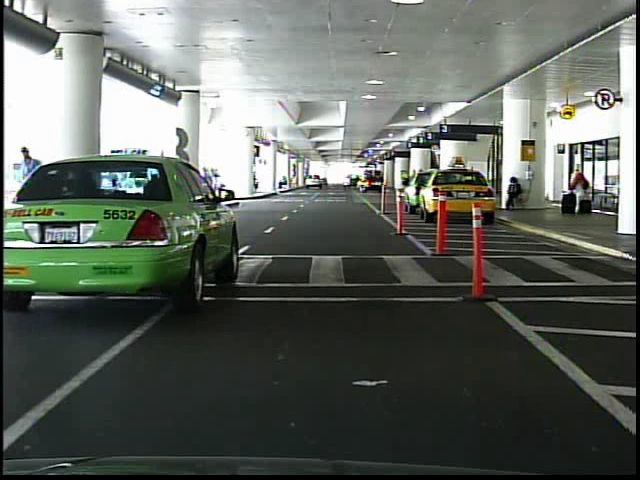person: (13, 144, 43, 243), (566, 166, 595, 216), (503, 176, 523, 210)
